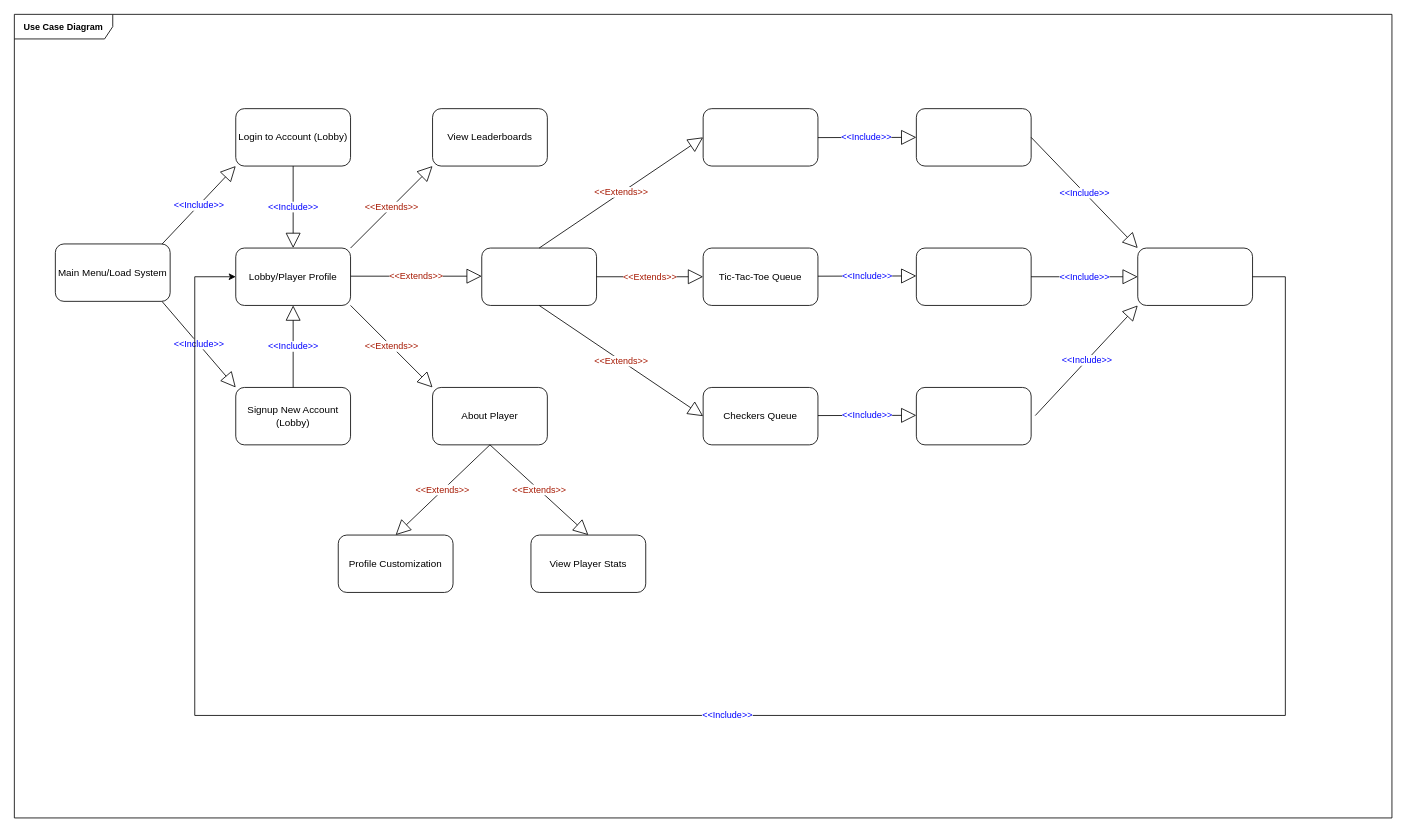
Some shapes in this 1406 by 832 pixel diagram are drawn without their labels. The shapes that lost their labels are listed below. From the top down, each one's centre as x and y in pixels, then its label:
[760,137]: Connect 4 Q ueue
[973,137]: Connect 4 Venue (Play)
[539,276]: Select Game
[973,276]: Tic-Tac-Toe Venue (Play)
[1195,276]: View Game Stats (Aftermath)
[973,416]: Checkers Venue (Play)
